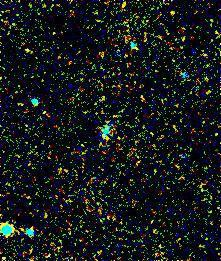star: (156, 0, 186, 30)
